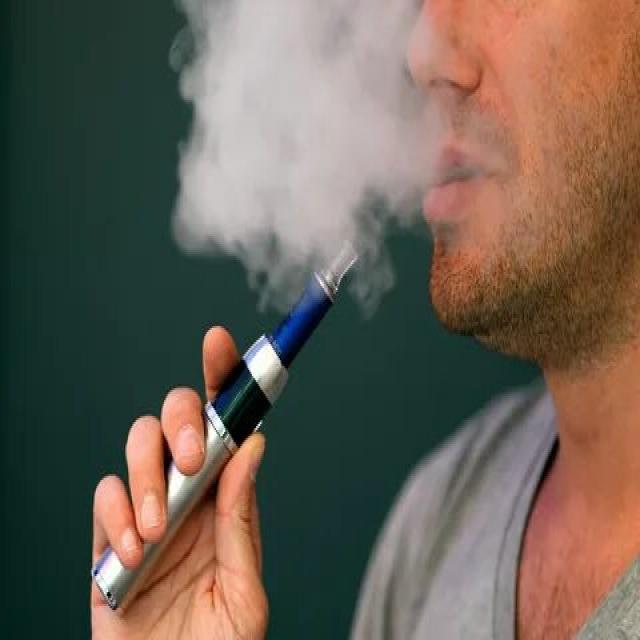cigarette: (91, 234, 364, 620)
